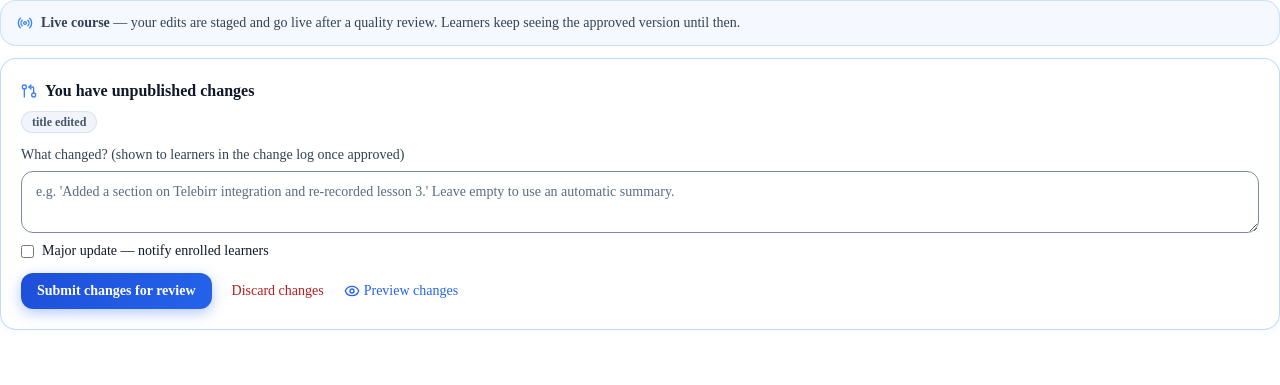
Test: <RevisionPanel /> › shows the server message when there is nothing valid to submit
Click the button "Submit changes for review". click: click(116, 291)
box: [21,273,212,309]
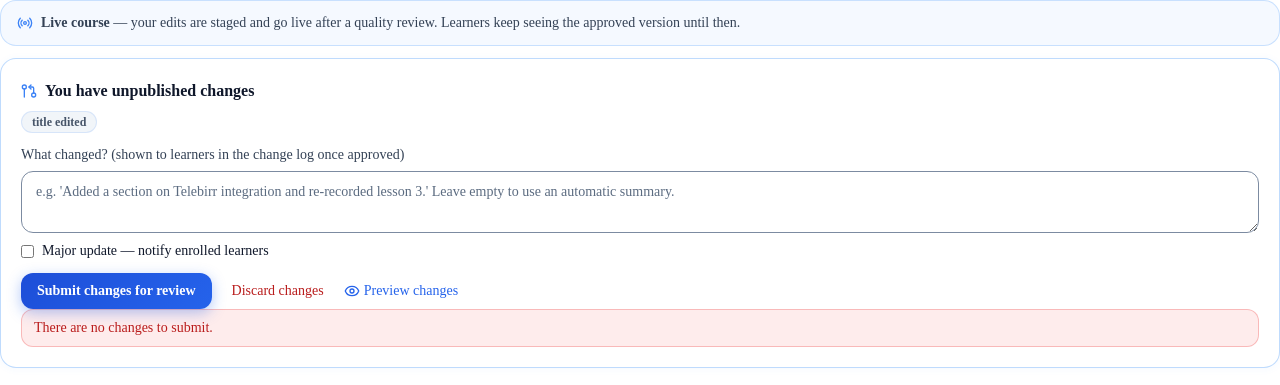
Expected: the text "There are no changes to submit." is shown, [21,309,1259,347]
